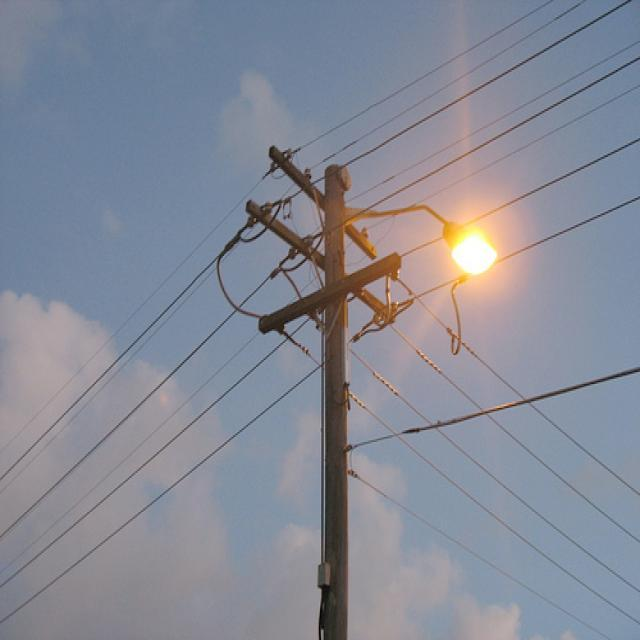crossarm: (248, 201, 390, 317), (270, 147, 378, 259), (257, 256, 403, 335)
pole: (315, 166, 352, 640)
wire: (0, 52, 640, 542), (1, 0, 595, 481), (0, 193, 640, 627), (0, 0, 563, 457), (281, 324, 640, 626), (1, 317, 317, 591), (352, 347, 640, 595), (398, 269, 640, 505), (390, 322, 640, 546), (349, 462, 616, 640), (406, 135, 640, 257), (353, 360, 640, 452), (216, 236, 260, 319)
